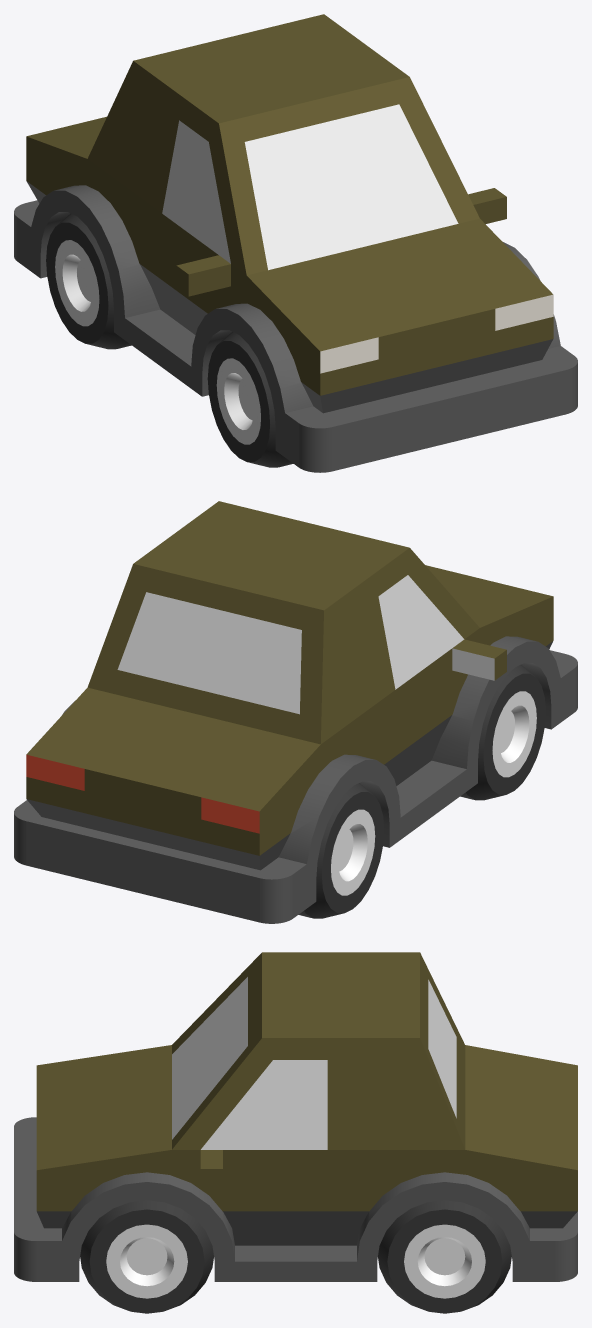
File: sedan_dirt.fbx
The picture shows the model from 3 angles, top to bottom: view 1: azimuth 30°, elevation 25°; view 2: azimuth 150°, elevation 25°; view 3: azimuth 270°, elevation 25°; orthographic projection. The views are drawn at different scales.
Parts seen in each view (by area): view 1: sedan; view 2: sedan; view 3: sedan.
Part boxes in pixels (x1,y1,x2,y2): sedan: (14, 14, 577, 472); sedan: (14, 501, 577, 923); sedan: (14, 952, 577, 1313).
Bounding box in the file's own units: 11.25 × 9.75 × 18.75.
